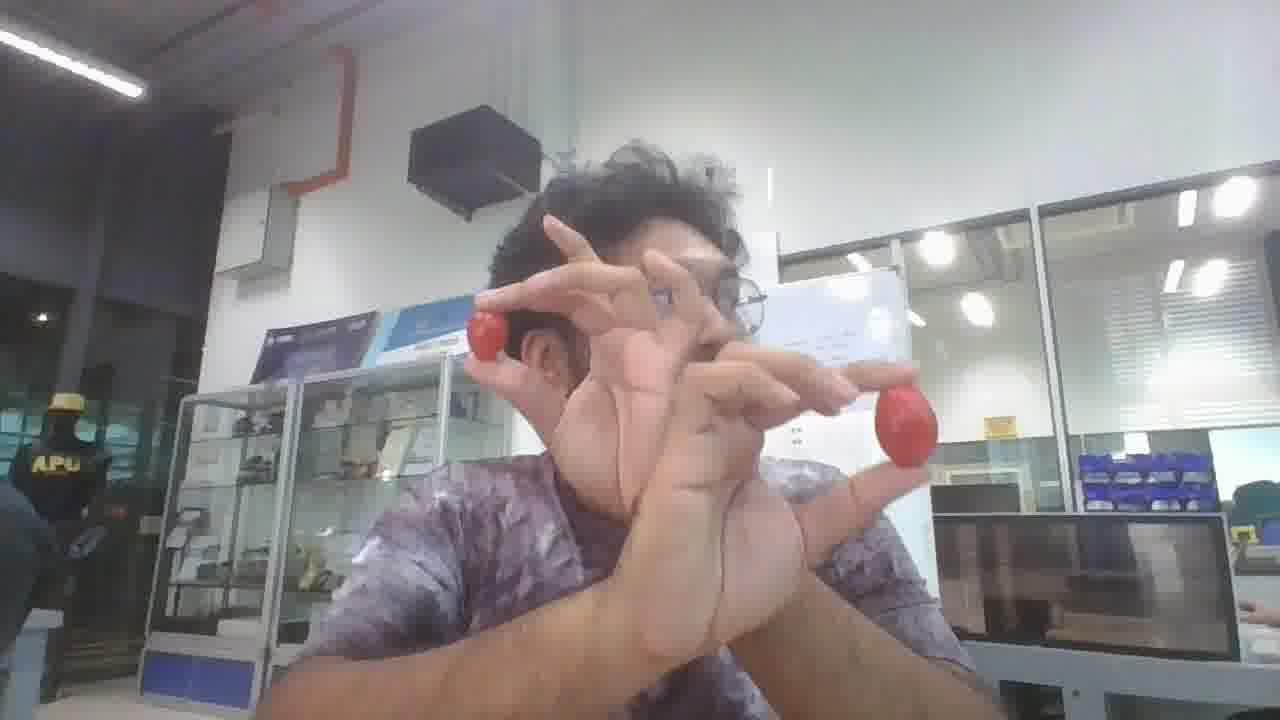red_cherry_tomato: (874, 384, 937, 467), (467, 311, 509, 363)
